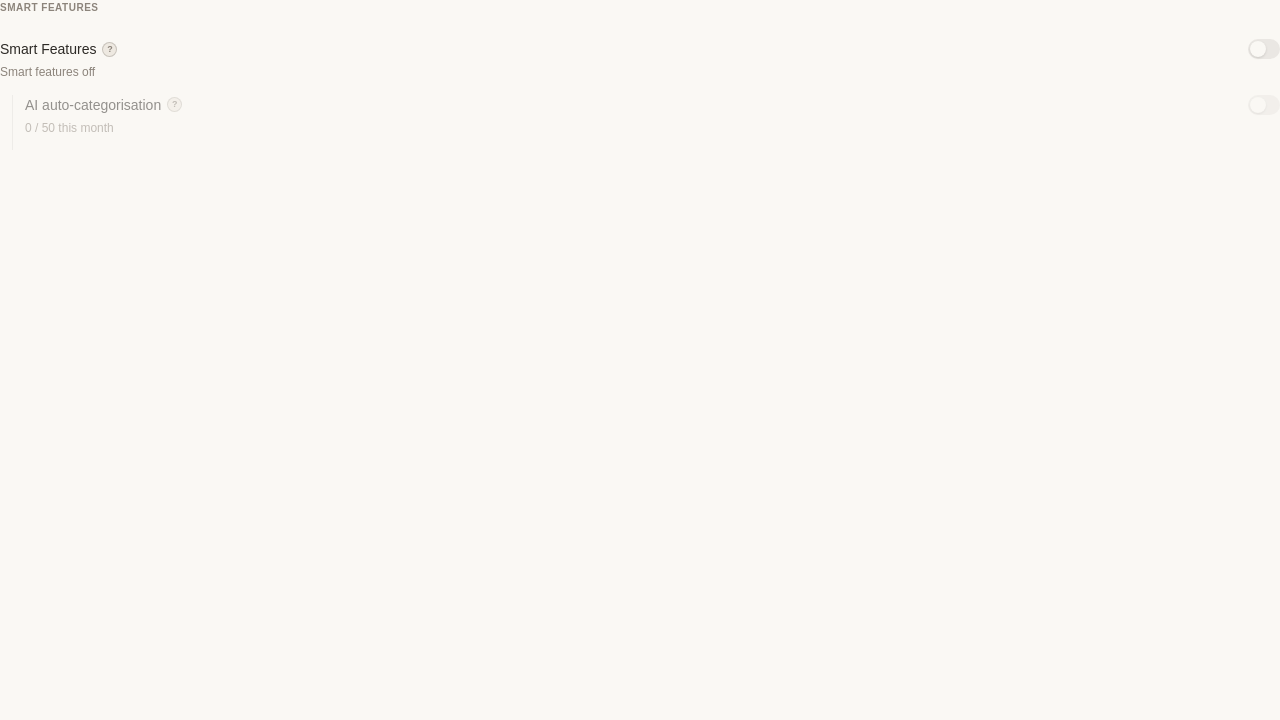
Test: AdvancedSection › when PATCH /me fails, error toast is shown, modal closes, switch remains off
Click the switch with test id "vision-switch" at (1264,49), box [1248,39,1279,59]
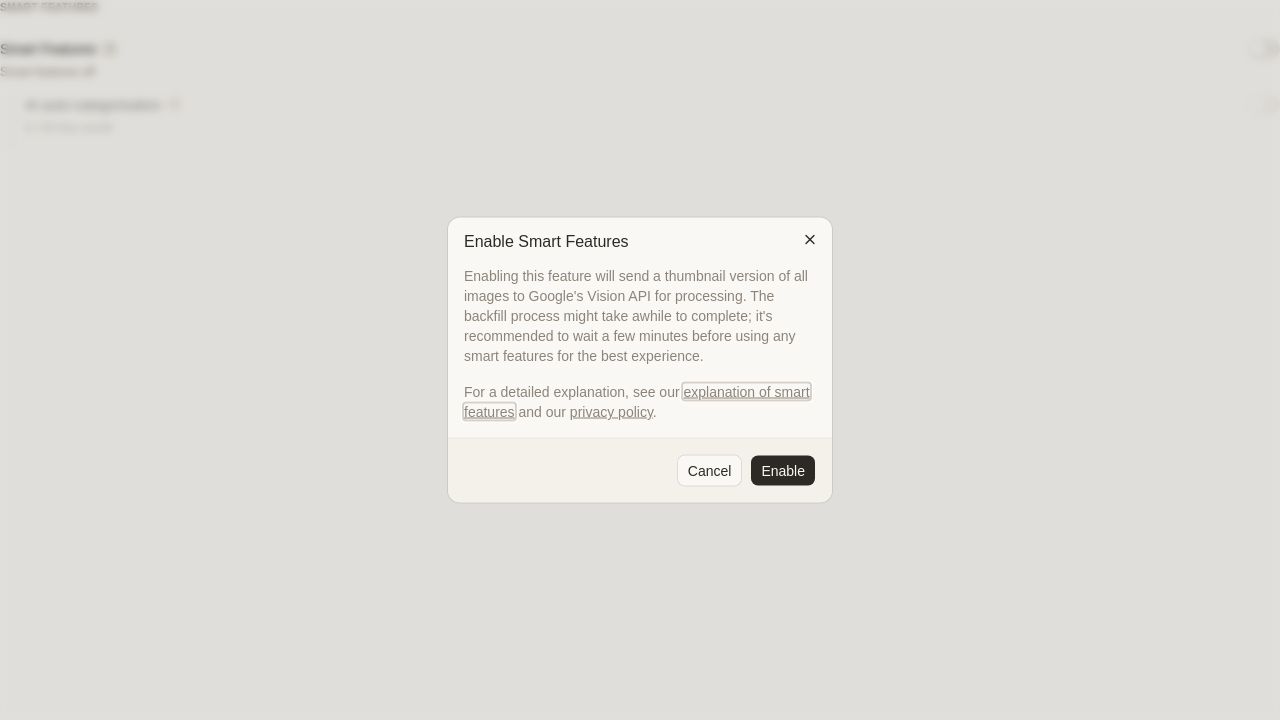
Click the button "Enable" at (783,470), box [750,454,816,486]
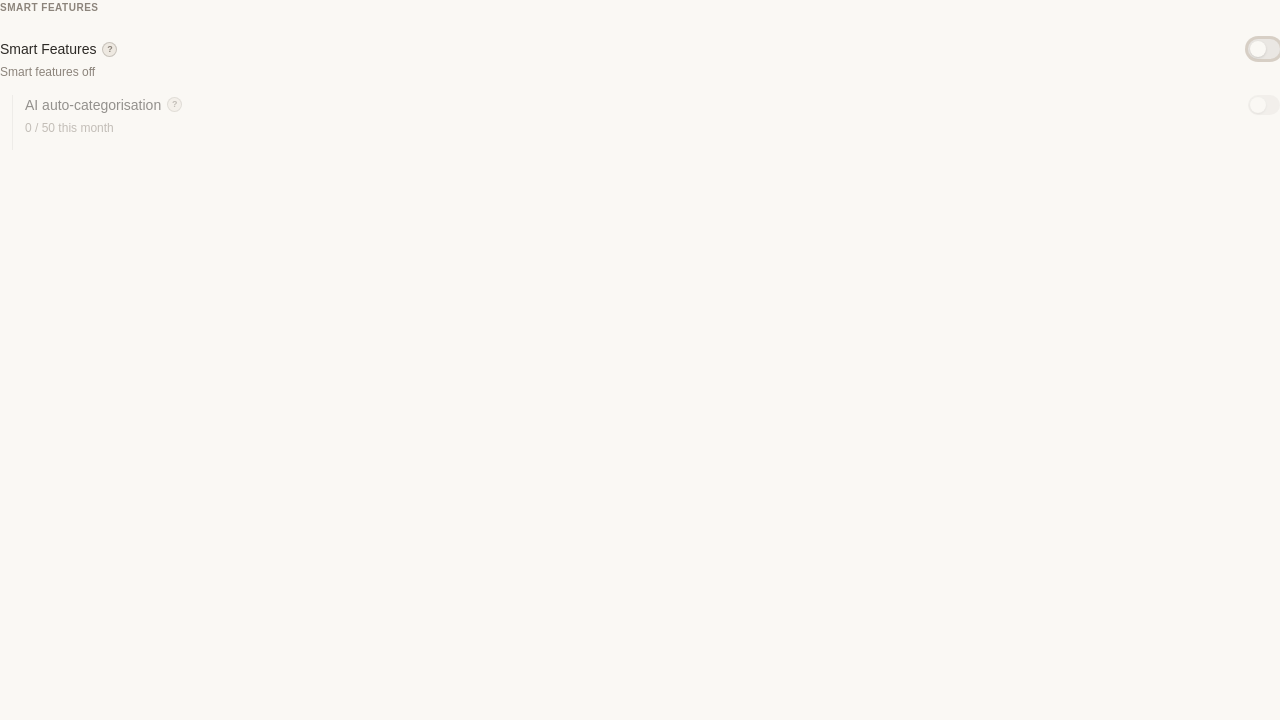
Check: the dialog is gone
